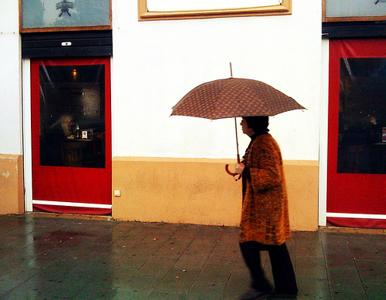person: (235, 115, 299, 300)
